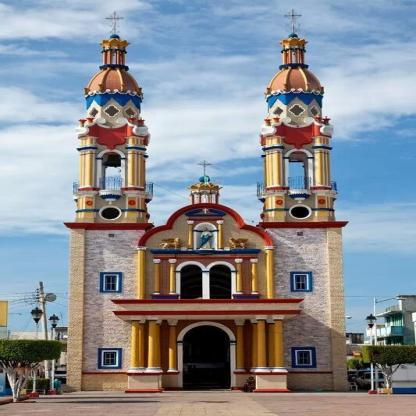Balcony: (287, 177, 310, 191), (100, 177, 123, 190), (257, 181, 266, 197), (145, 182, 153, 196), (73, 182, 80, 196), (330, 181, 337, 194)
Building Outline: (63, 10, 350, 393)
Cornice: (112, 310, 302, 315), (63, 223, 155, 232), (258, 222, 349, 229), (231, 249, 261, 254), (151, 250, 180, 254)
Deco: (191, 228, 219, 250), (283, 10, 302, 34), (105, 12, 124, 34), (197, 160, 212, 176), (162, 238, 181, 250), (229, 238, 247, 249), (203, 209, 208, 214)
Door: (183, 325, 231, 391), (209, 265, 231, 299), (180, 265, 202, 299)
Facade: (63, 9, 350, 393)
Pillar: (127, 316, 143, 373), (144, 316, 160, 373), (254, 316, 270, 372), (272, 315, 287, 372), (265, 318, 279, 372), (263, 246, 277, 300), (134, 316, 147, 372), (135, 246, 148, 300), (167, 319, 179, 372), (234, 319, 246, 372), (250, 319, 261, 372), (153, 319, 163, 372), (250, 258, 259, 294), (235, 258, 243, 294), (153, 259, 161, 294), (216, 220, 224, 251), (187, 220, 195, 251), (169, 259, 176, 294)
Window: (288, 151, 309, 190), (101, 152, 122, 190), (290, 105, 304, 115), (105, 106, 119, 116), (107, 277, 116, 290), (297, 276, 305, 289), (91, 108, 100, 118), (125, 108, 134, 118), (300, 353, 308, 363), (106, 354, 114, 363), (274, 108, 283, 116), (201, 194, 208, 203), (311, 108, 317, 116), (212, 194, 215, 204), (194, 194, 197, 204)
